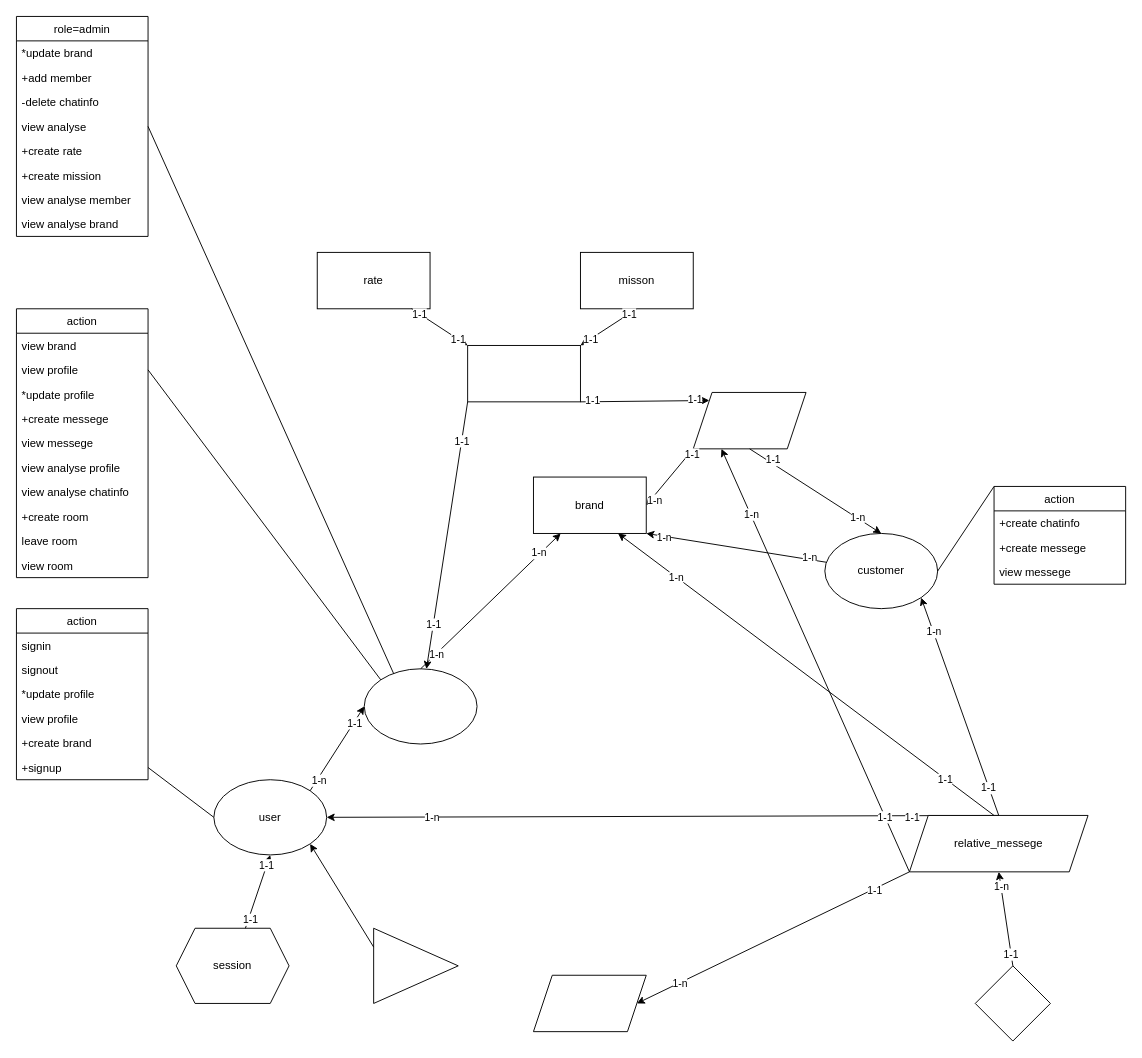
Image size: 1142x1058. Some labels were removed from this diagram. Here are the shapes that lost their labels. From the top down, the centre of each, then its label:
At point (523, 373): "analyse".
At point (749, 420): "chatinfo".
At point (420, 706): "member".
At point (415, 965): "history".
At point (589, 1003): "room".
At point (1012, 1003): "messege".
